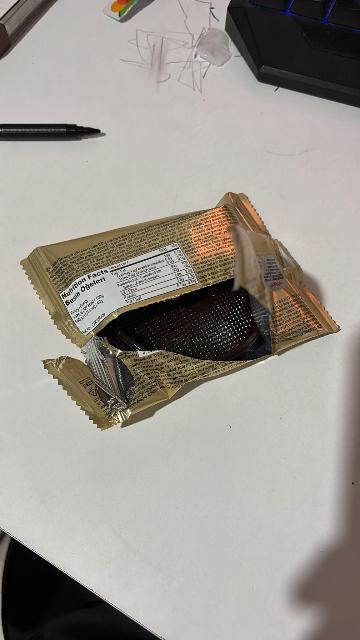Plastik: (17, 194, 347, 425)
